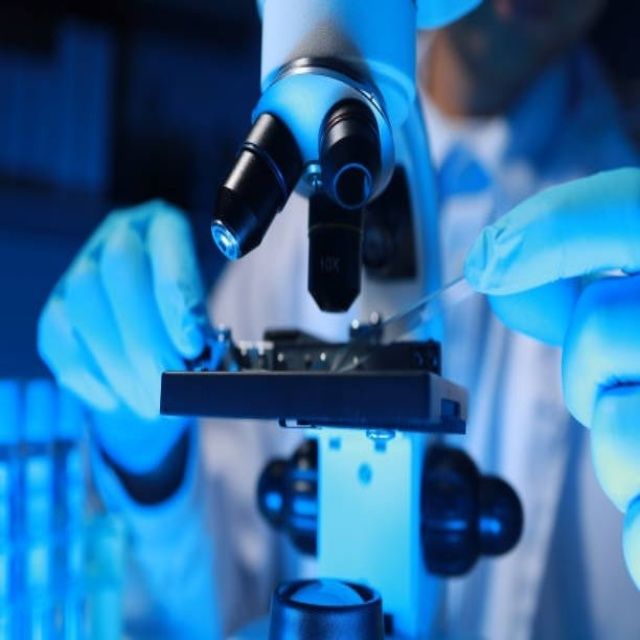Guantes: (463, 157, 639, 558), (32, 195, 215, 449)
